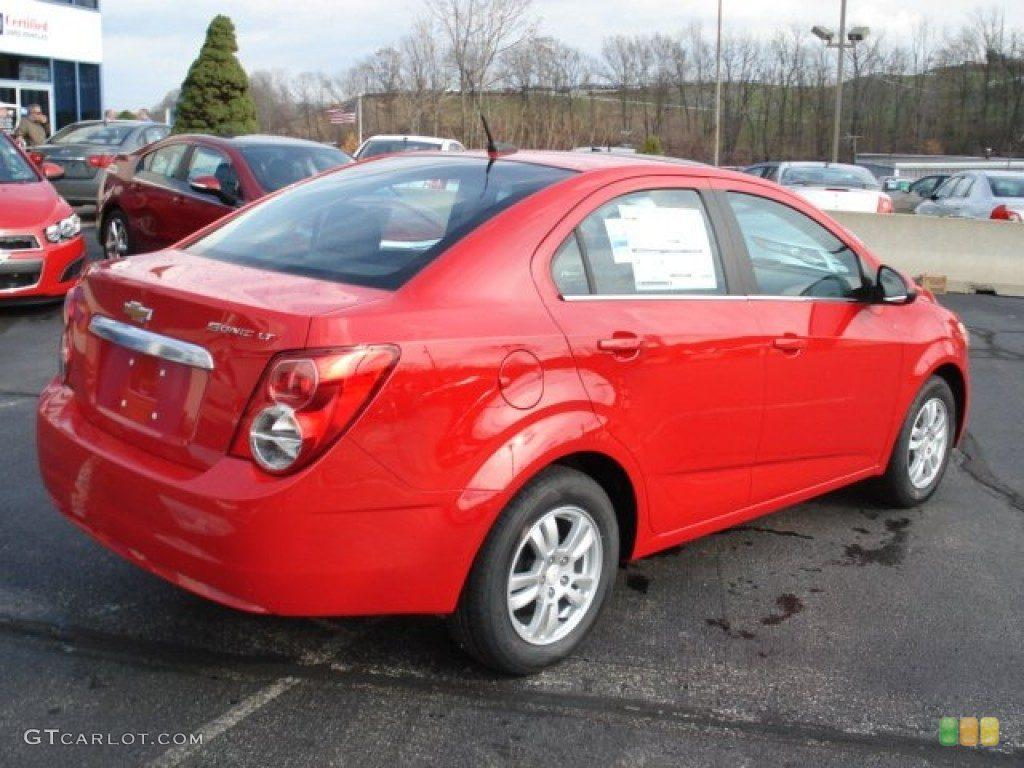Sedan: (34, 126, 972, 676), (93, 132, 358, 261)
